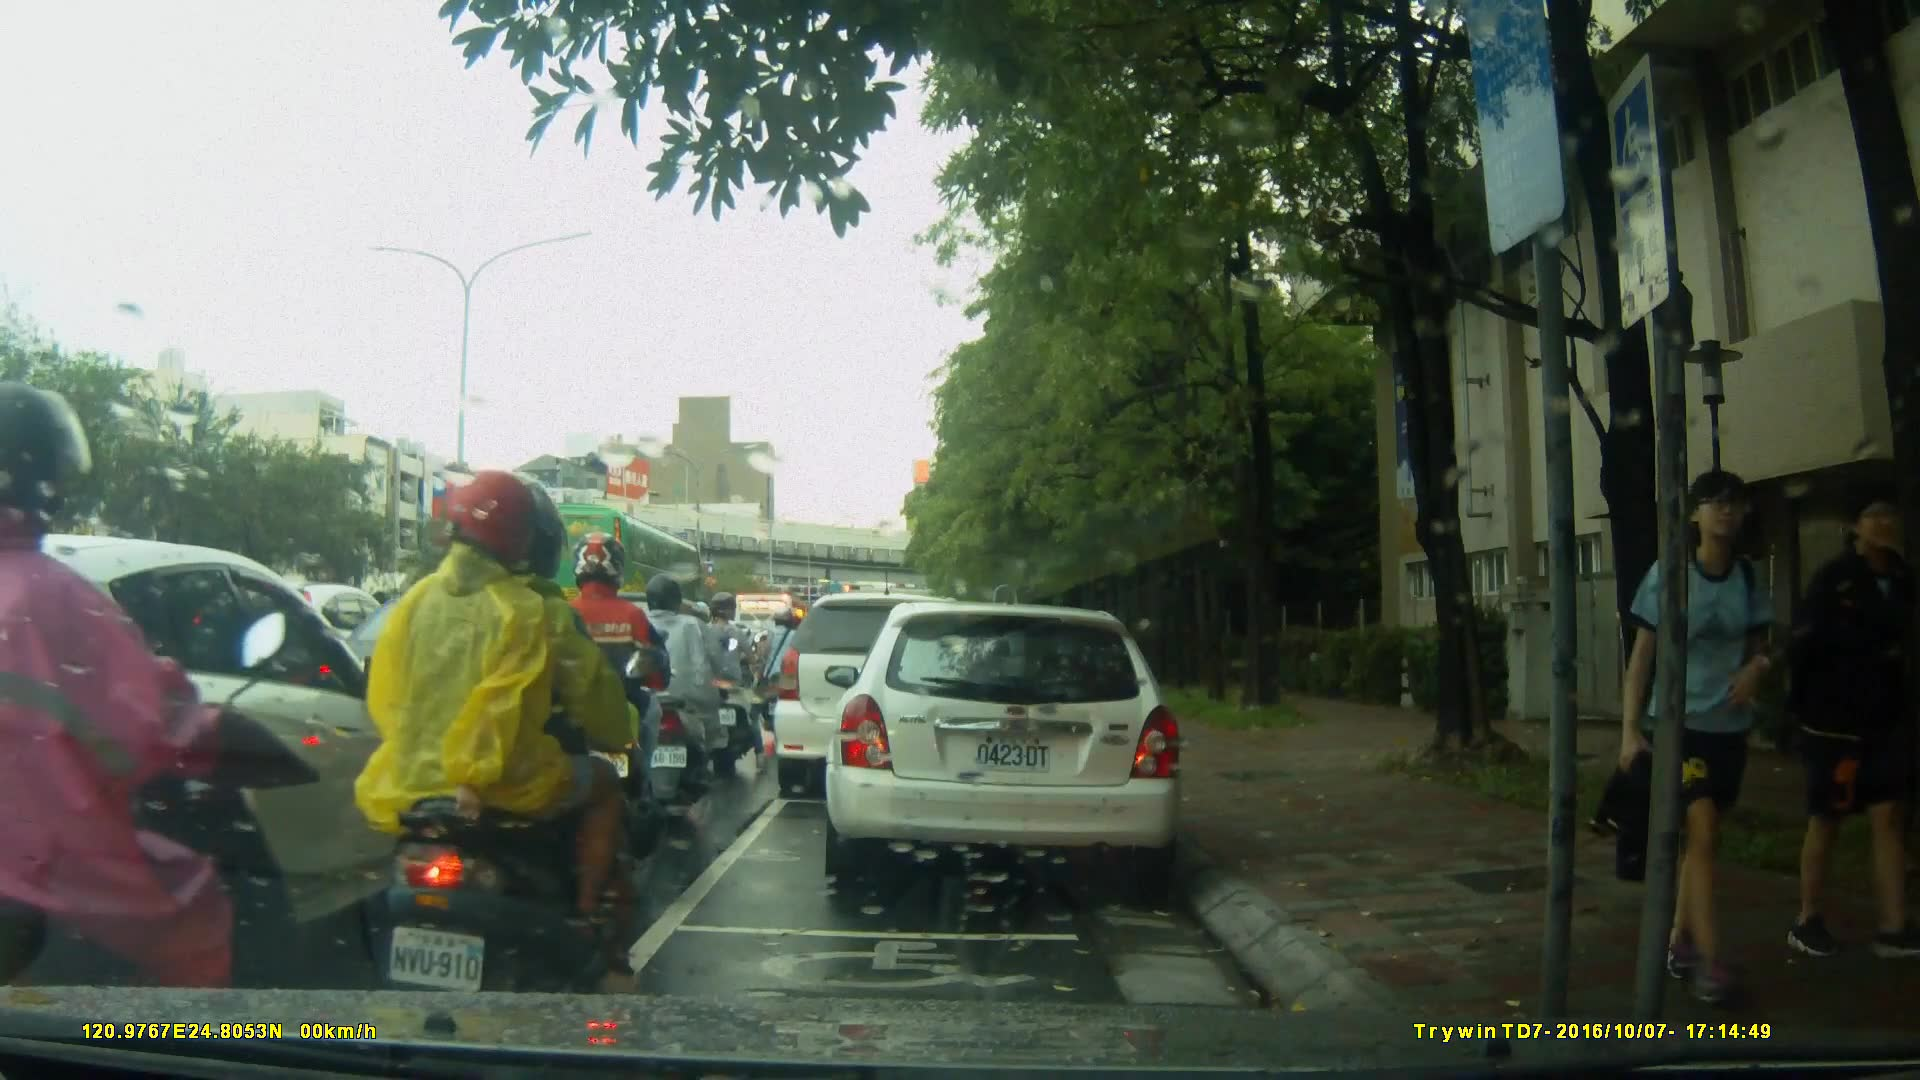pedestrian: (1599, 468, 1801, 998), (1766, 500, 1919, 963)
rider: (1, 388, 296, 1063), (360, 470, 634, 1027), (542, 532, 683, 860), (620, 573, 730, 809), (696, 586, 767, 768), (756, 607, 813, 737)
vehicle: (2, 533, 461, 988), (831, 592, 1196, 897), (320, 590, 629, 776), (770, 590, 999, 804), (495, 500, 708, 636)
